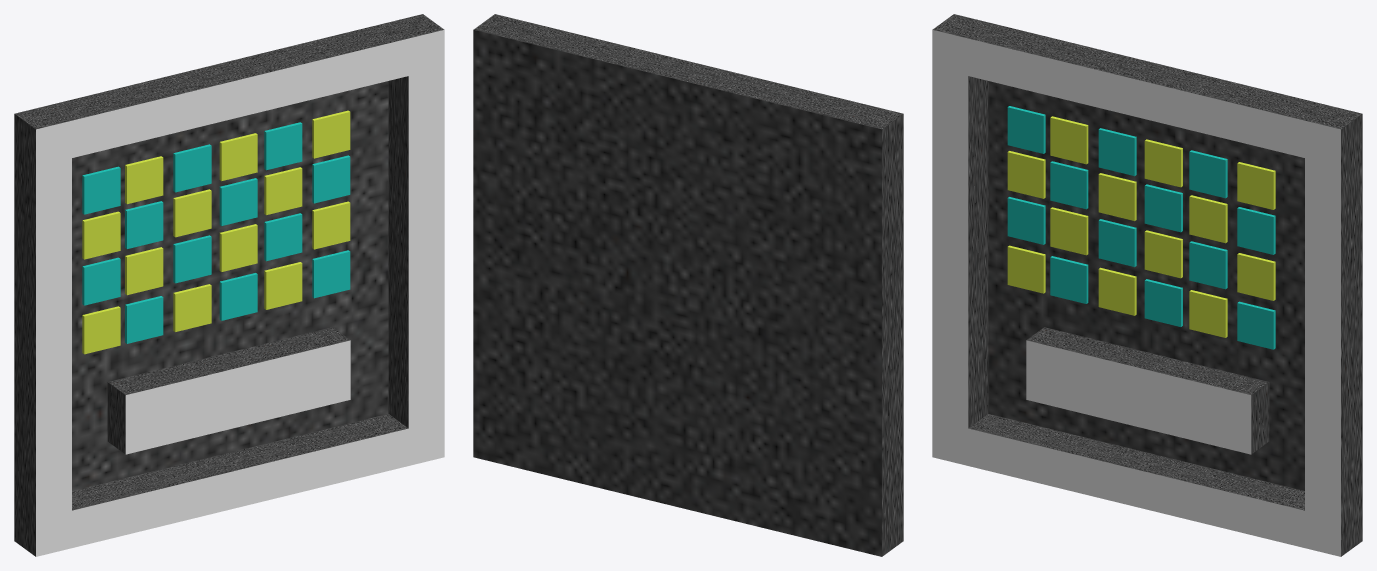
Rendered from Console.fbx.
The picture shows the model from 3 angles, left to right: view 1: azimuth 30°, elevation 25°; view 2: azimuth 150°, elevation 25°; view 3: azimuth 330°, elevation 25°; orthographic projection.
Visible parts, largest first — view 1: console, yellow, blue; view 2: console; view 3: console, yellow, blue.
Part boxes in pixels (bbox=[...]): console: bbox=[14, 14, 444, 556]; yellow: bbox=[82, 110, 350, 354]; blue: bbox=[82, 122, 350, 343]; console: bbox=[473, 14, 903, 556]; console: bbox=[932, 14, 1362, 556]; yellow: bbox=[1007, 116, 1275, 337]; blue: bbox=[1007, 106, 1275, 349].
Bounding box in the file's own units: 7 × 7 × 0.6385.
1 material, 1 textured.
